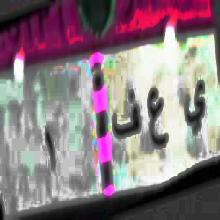1: (42, 115, 58, 178)
ain: (147, 79, 169, 157)
faa: (112, 85, 141, 146)
yaa: (184, 78, 208, 136)
